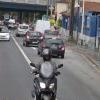Motorcycle: (20, 50, 66, 100)
